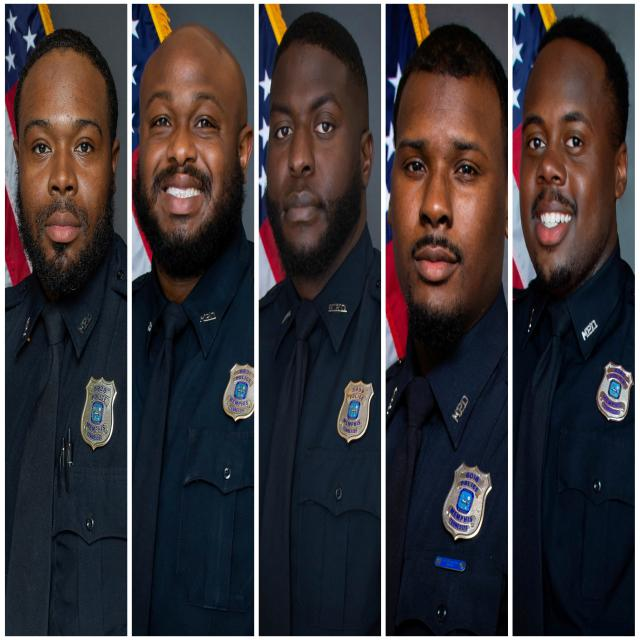police: (253, 16, 387, 640), (510, 10, 640, 640), (126, 10, 254, 640), (0, 22, 130, 639), (382, 16, 509, 640)
